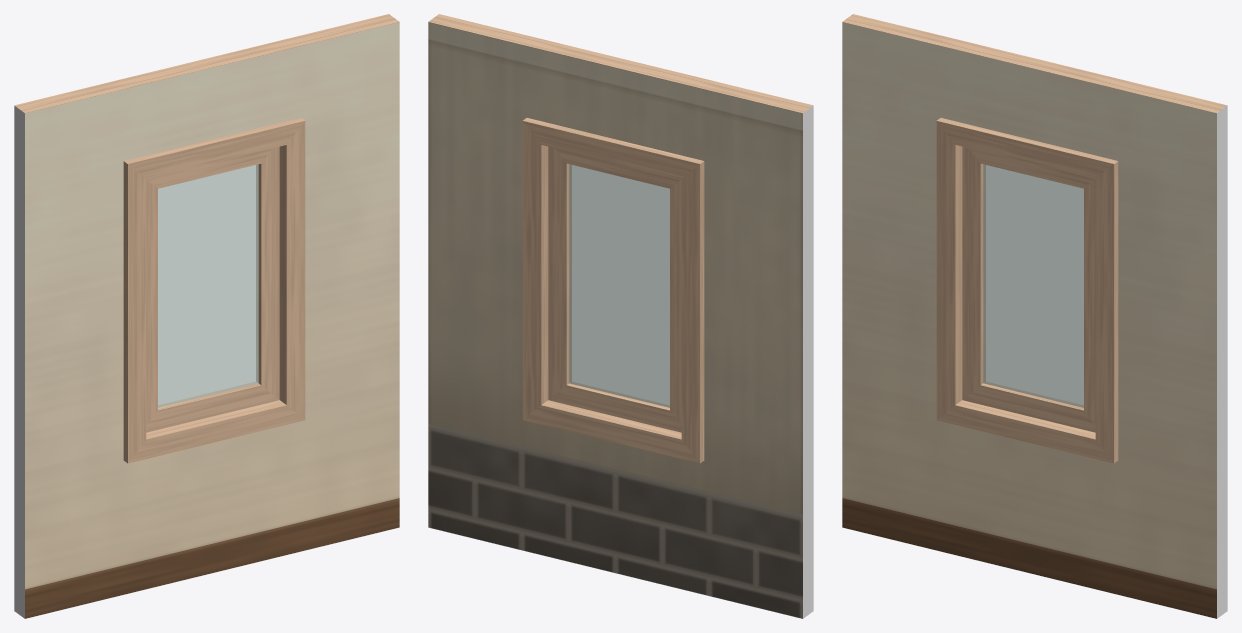
File: wallWindow.glb
3 views of the same model, side by side, from view 1: azimuth 30°, elevation 25°; view 2: azimuth 150°, elevation 25°; view 3: azimuth 330°, elevation 25° (orthographic).
Parts seen in each view (by area): view 1: wallWindow; view 2: wallWindow; view 3: wallWindow.
Boxes of the visible parts, x1,y1,x2,y2 form: wallWindow: (14, 14, 399, 618); wallWindow: (428, 14, 813, 618); wallWindow: (842, 14, 1227, 618).
Size of the model in its own units: 1 by 1.29 by 0.0891.
Materials: 5 (3 with a texture image).
